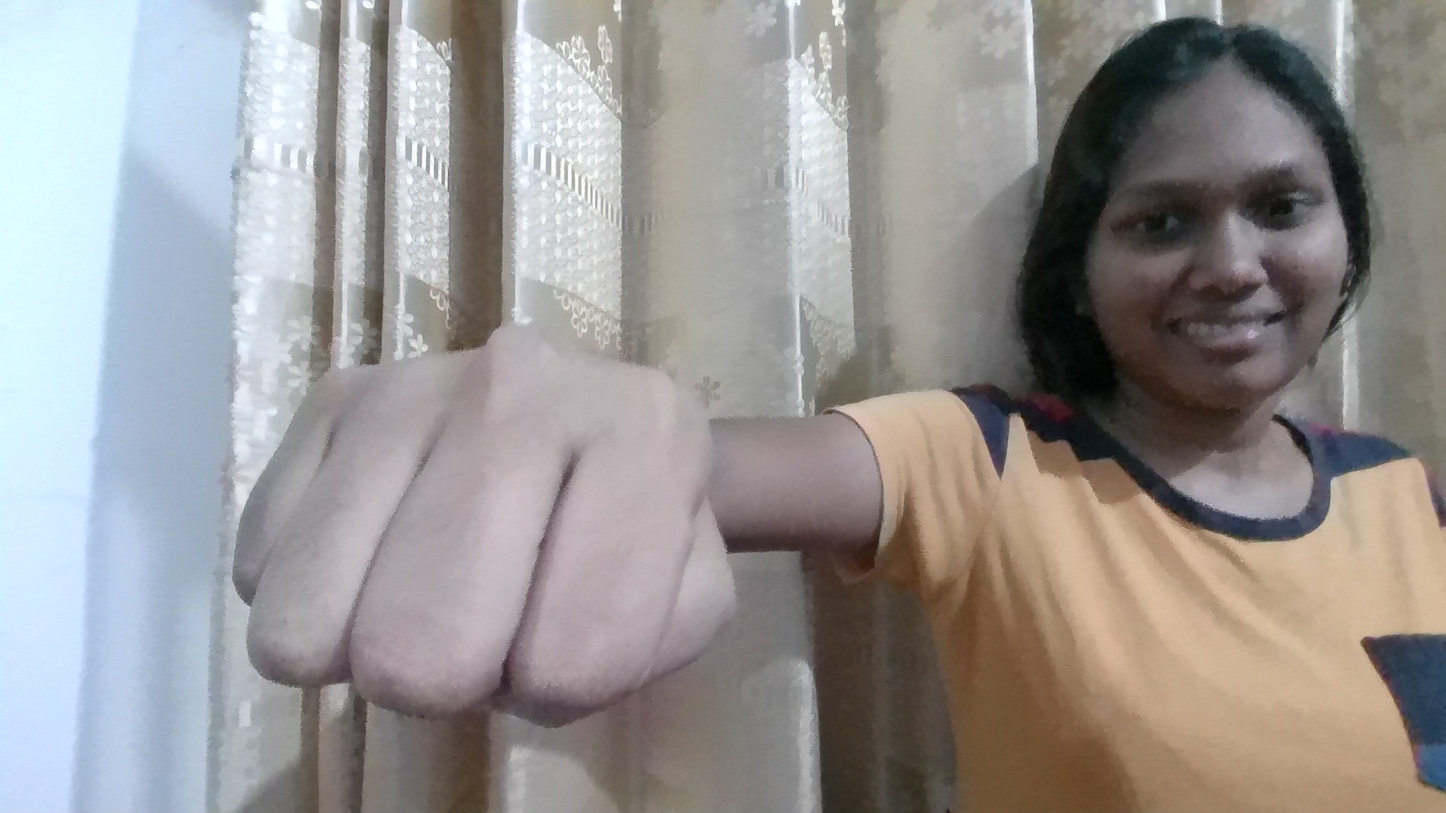Yes: (164, 299, 759, 759)
